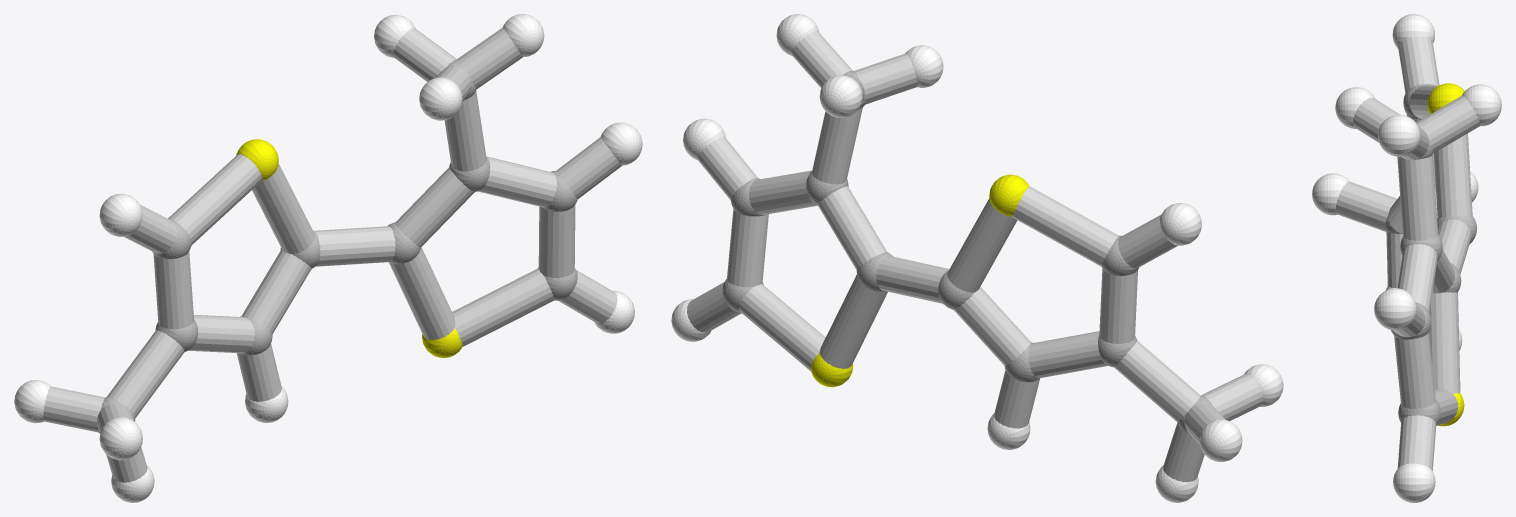
Rendered from Methylthiophene_Phi_20_Theta_10_Methylthiophene.glb.
3 views of the same model, side by side, from view 1: azimuth 30°, elevation 25°; view 2: azimuth 150°, elevation 25°; view 3: azimuth 270°, elevation 25° (orthographic). The views are drawn at different scales.
Parts seen in each view (by area): view 1: grp7965, grp3621, grp1, grp7241; view 2: grp7965, grp3621, grp1, grp7241; view 3: grp7965, grp3621, grp1, grp7241.
Part boxes in pixels (x1,y1,x2,y2): grp7965: (43, 27, 622, 482); grp3621: (14, 14, 642, 502); grp1: (97, 60, 577, 433); grp7241: (236, 139, 462, 357); grp7965: (687, 31, 1262, 482); grp3621: (671, 14, 1283, 502); grp1: (722, 70, 1213, 434); grp7241: (810, 174, 1029, 387); grp7965: (1335, 36, 1480, 471); grp3621: (1312, 14, 1501, 502); grp1: (1385, 83, 1476, 425); grp7241: (1427, 83, 1464, 426).
Bounding box in the file's own units: 9.45 × 5.99 × 2.68.
